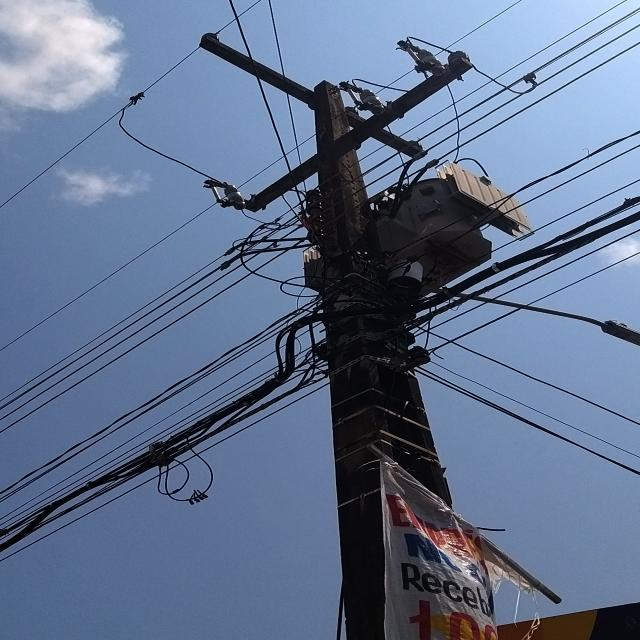Plaqueta: (302, 217, 312, 228)
